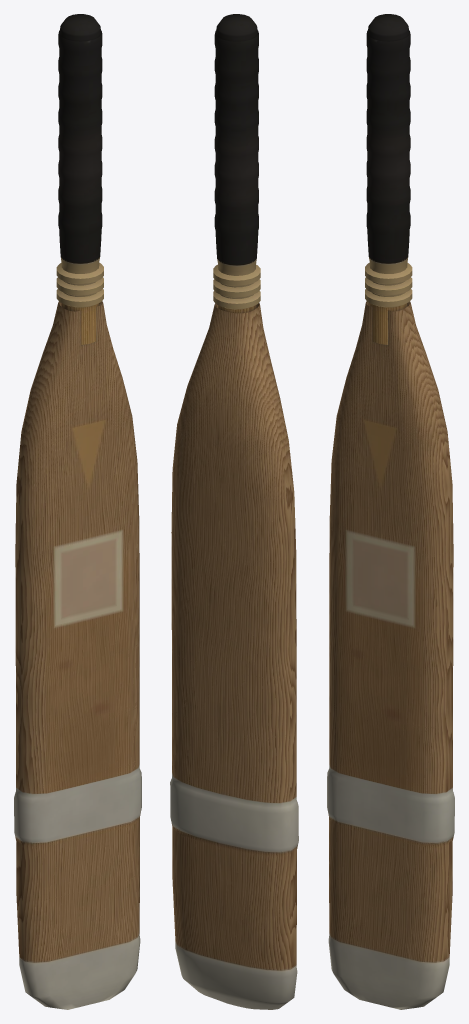
The model's file is cricket-bat.glb.
The picture shows the model from 3 angles, left to right: view 1: azimuth 30°, elevation 25°; view 2: azimuth 150°, elevation 25°; view 3: azimuth 330°, elevation 25°; orthographic projection.
Parts seen in each view (by area): view 1: bat; view 2: bat; view 3: bat.
Part boxes in pixels (box(x1,y1,x2,y2)): bat: box(14, 14, 141, 1009); bat: box(170, 14, 298, 1009); bat: box(327, 14, 454, 1009).
Bounding box in the file's own units: 0.1098 × 0.8505 × 0.0471.
Materials: 1 (1 with a texture image).
